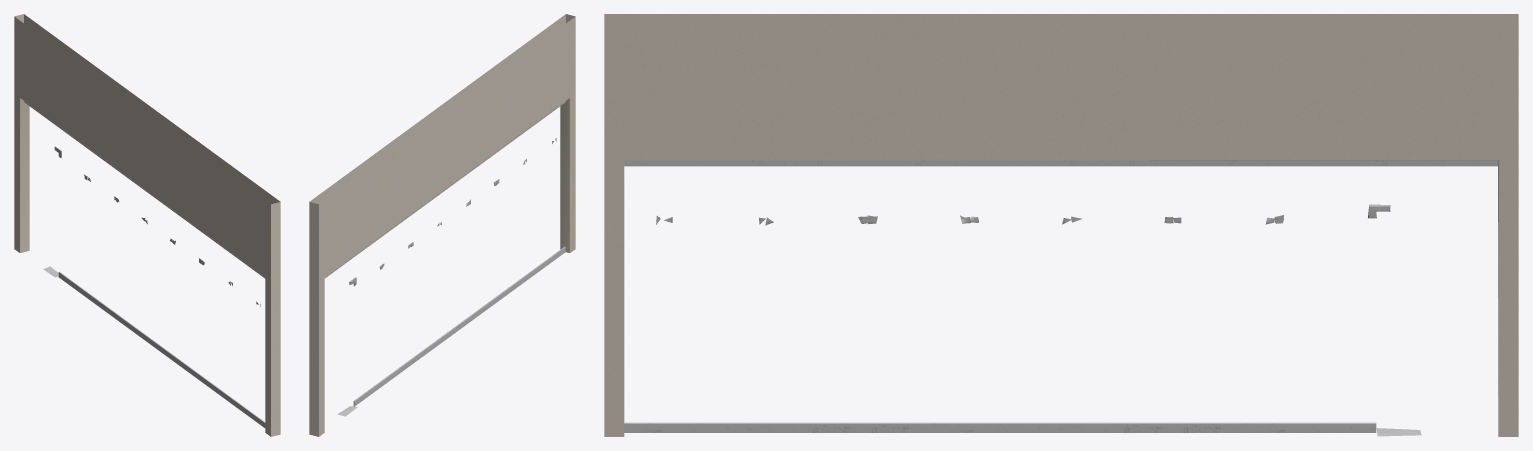
File: SM_Office_Wall01y.fbx
The picture shows the model from 3 angles, left to right: view 1: azimuth 30°, elevation 25°; view 2: azimuth 150°, elevation 25°; view 3: azimuth 270°, elevation 25°; orthographic projection. The views are drawn at different scales.
Parts seen in each view (by area): view 1: SM_Office_Wall01y_LOD0; view 2: SM_Office_Wall01y_LOD0; view 3: SM_Office_Wall01y_LOD0.
Part boxes in pixels (x1,y1,x2,y2): SM_Office_Wall01y_LOD0: (14,14,280,436); SM_Office_Wall01y_LOD0: (309,14,575,436); SM_Office_Wall01y_LOD0: (604,14,1518,436).
Bounding box in the file's own units: 19.99 × 900 × 451.
